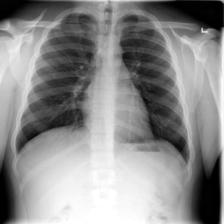normal: (10, 6, 192, 169)
